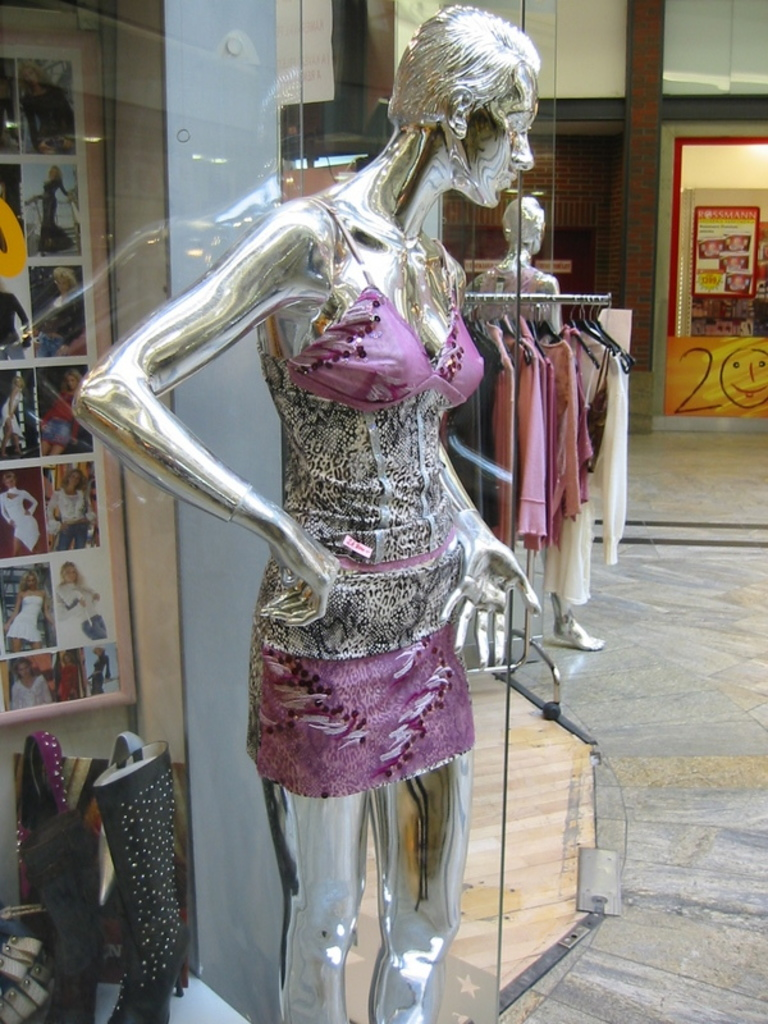Person: (0, 0, 550, 1024)
